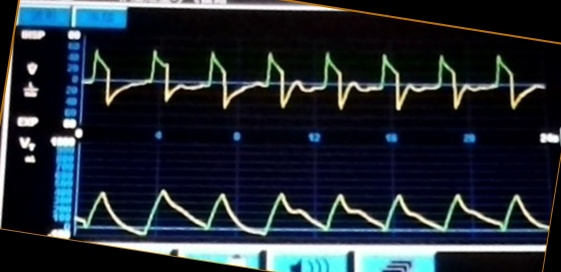Premature_cycling Flow: (85, 46, 546, 124)
Premature_cycling Volume: (80, 174, 548, 240)
